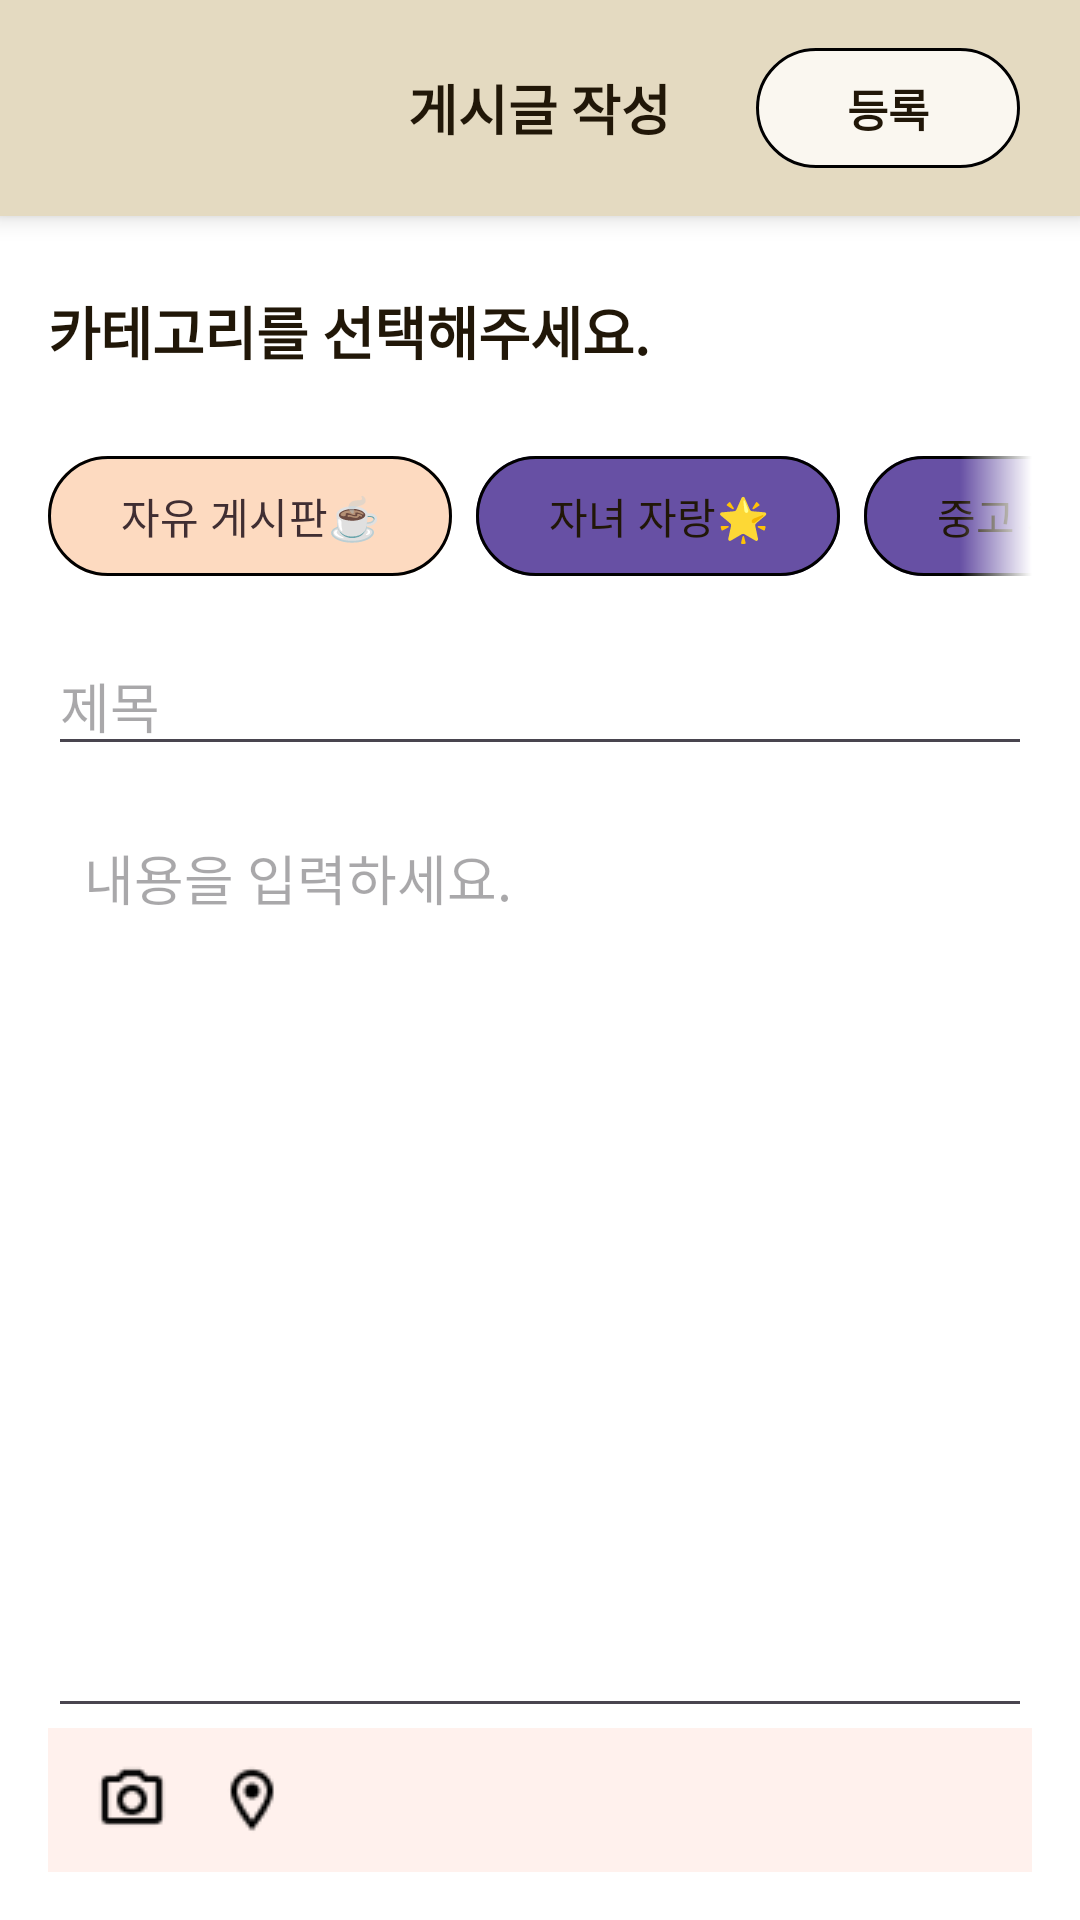

Screen size 1080x1920. Icon name, then its center in pixels as (x,y):
사진 첨부: (132,1797)
위치 첨부: (252,1800)
